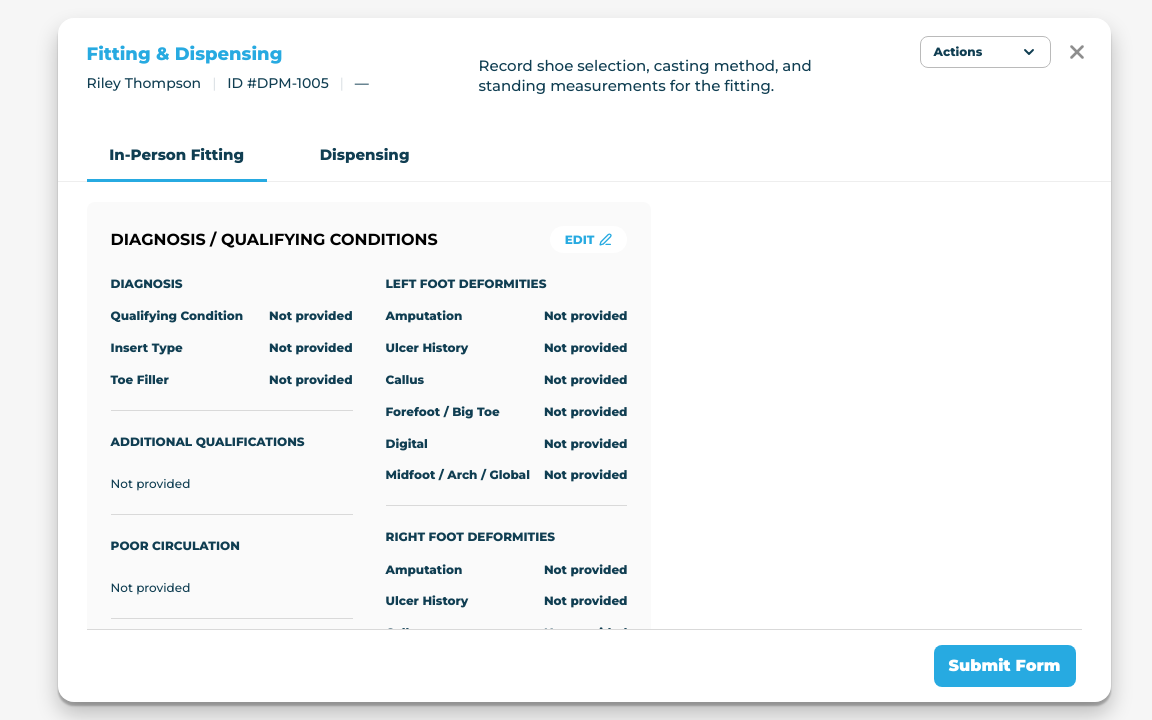
Test: FittingDispensingModal actions › confirms and displays the cannot-contact status
Click the button "Actions".
click(985, 52)  # box [920,36,1050,68]
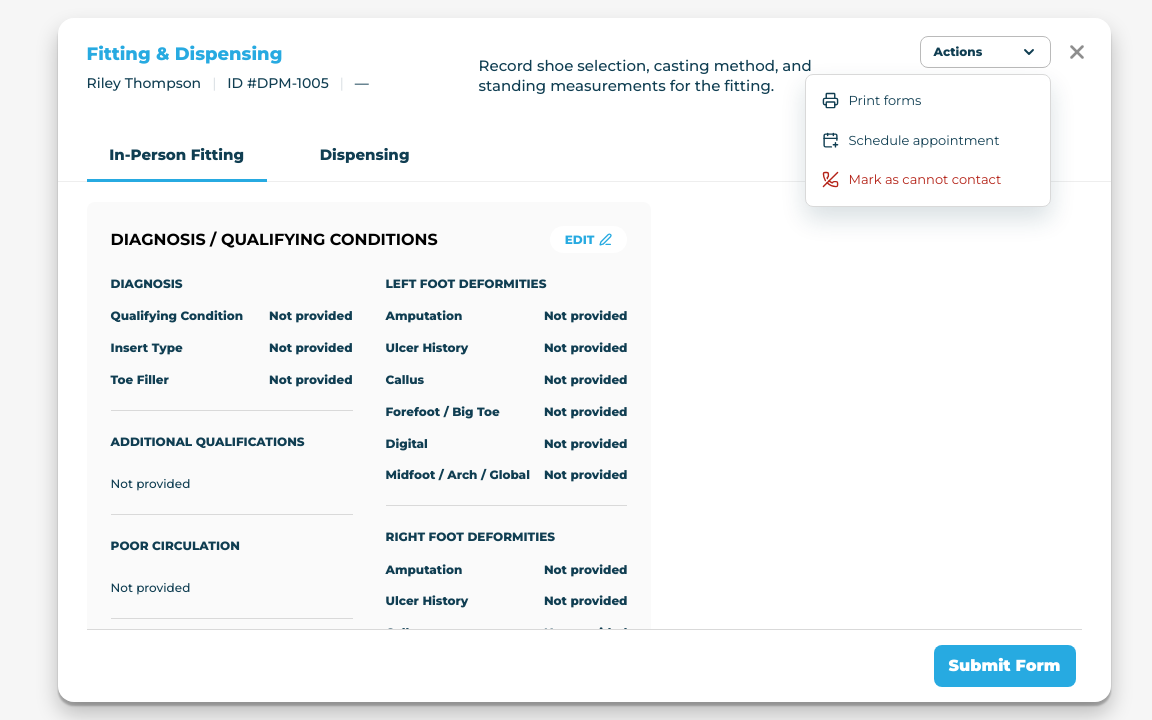
Click the menu item "Mark as cannot contact".
click(928, 180)  # box [812,160,1044,200]
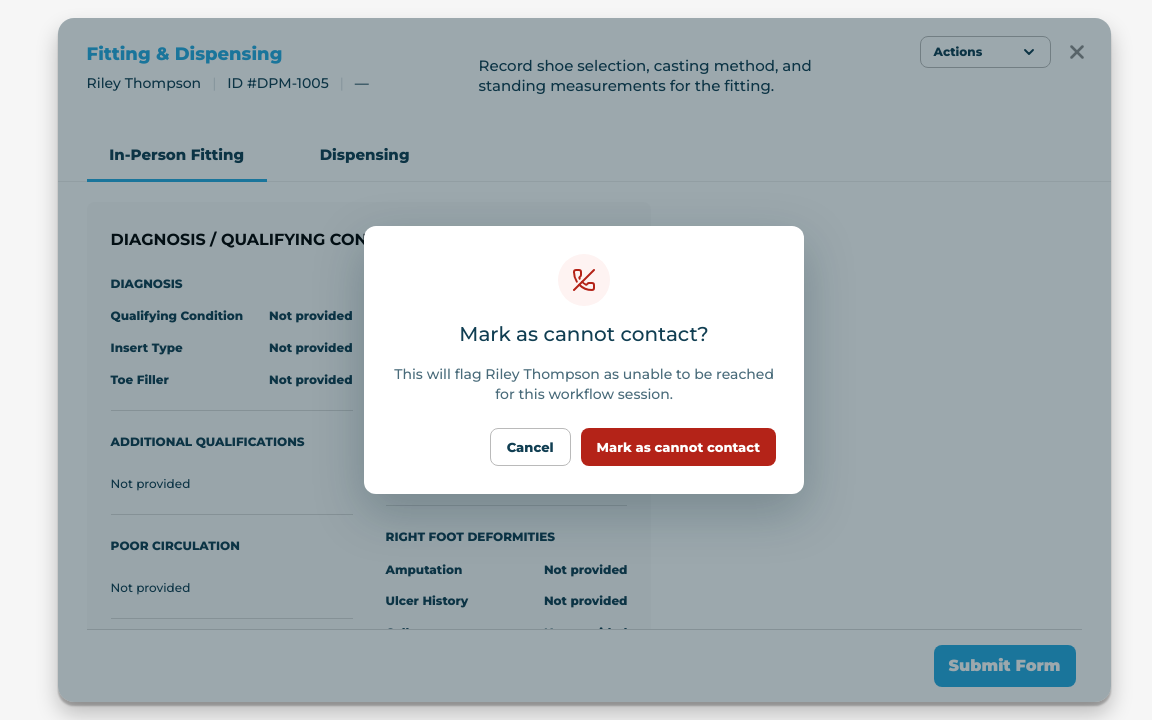
Expected: the dialog is shown, [364,226,804,494]
Click the button "Mark as cannot contact".
click(678, 447)  # box [581,428,776,466]
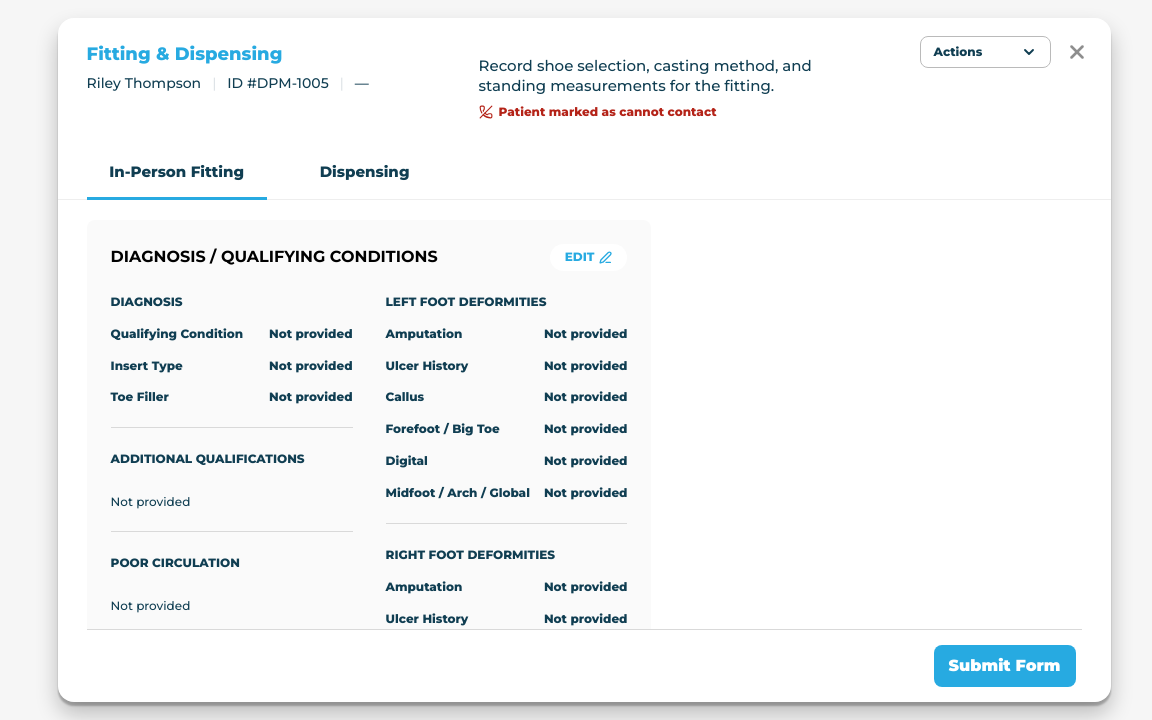
Expected: the message reads "Patient marked as cannot contact", [499,104,717,118]
